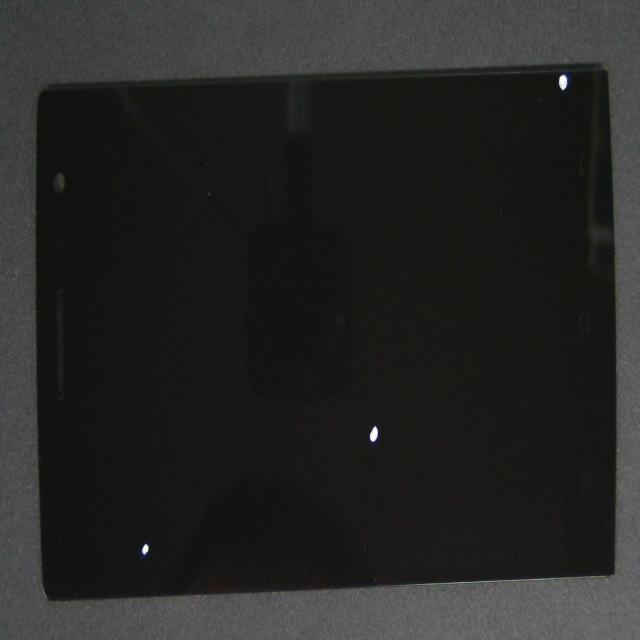stain: (198, 189, 551, 621), (34, 283, 203, 640), (291, 96, 640, 157)
